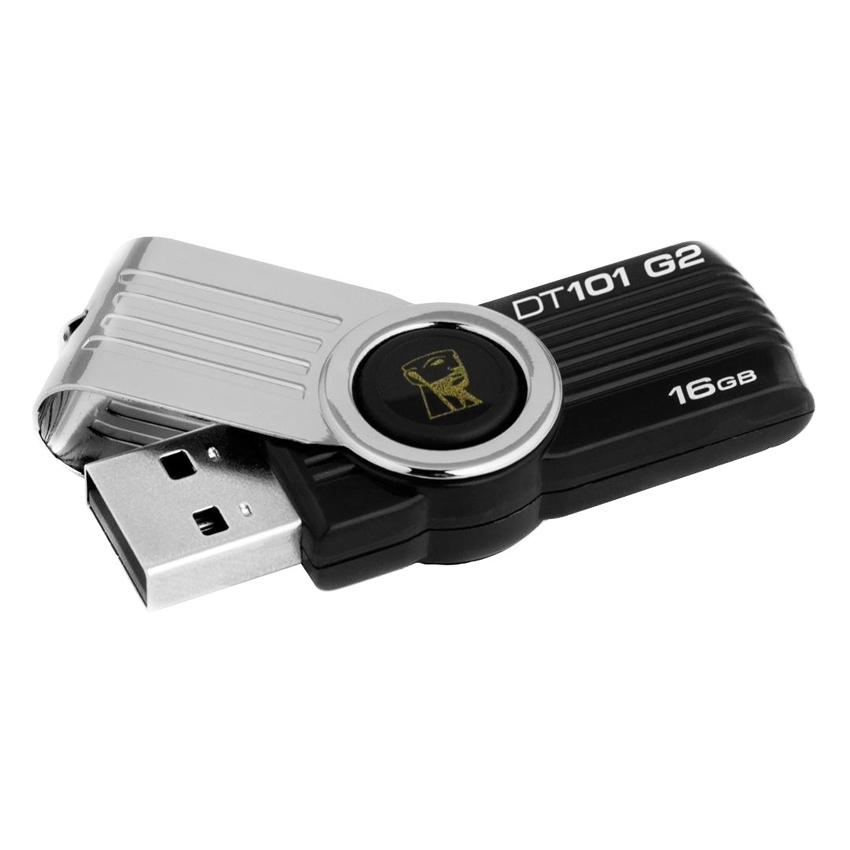Kingston: (393, 338, 498, 433)
